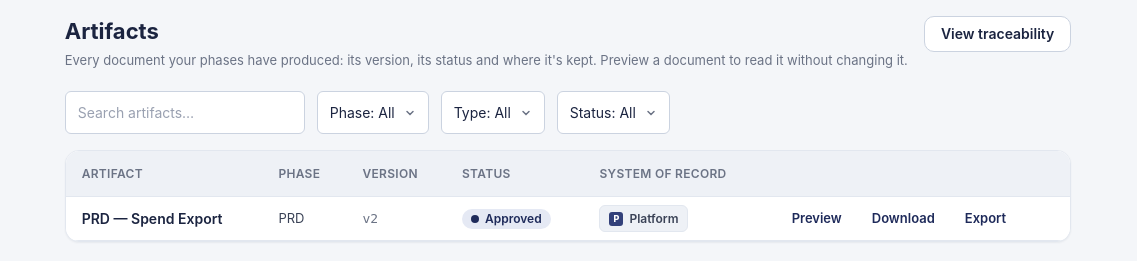
it: the registry › says why, and saves nothing, when there is no content stored
Click the button "Download".
click(903, 218)  # box [861,205,946,232]
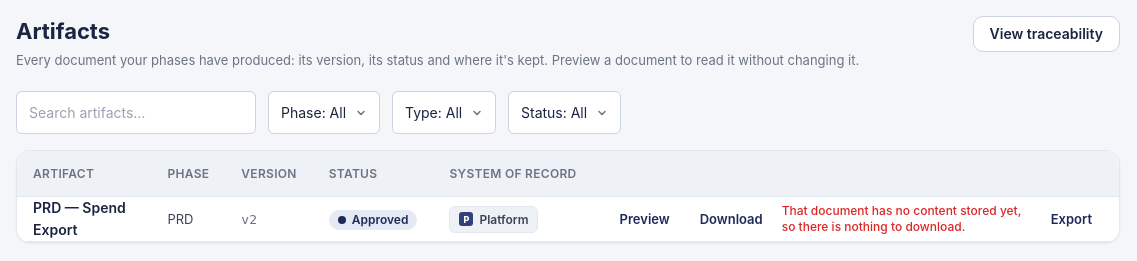
Expected: the text "That document has no content stored yet, so there is nothing to download." is shown, [782,203,1032,235]
